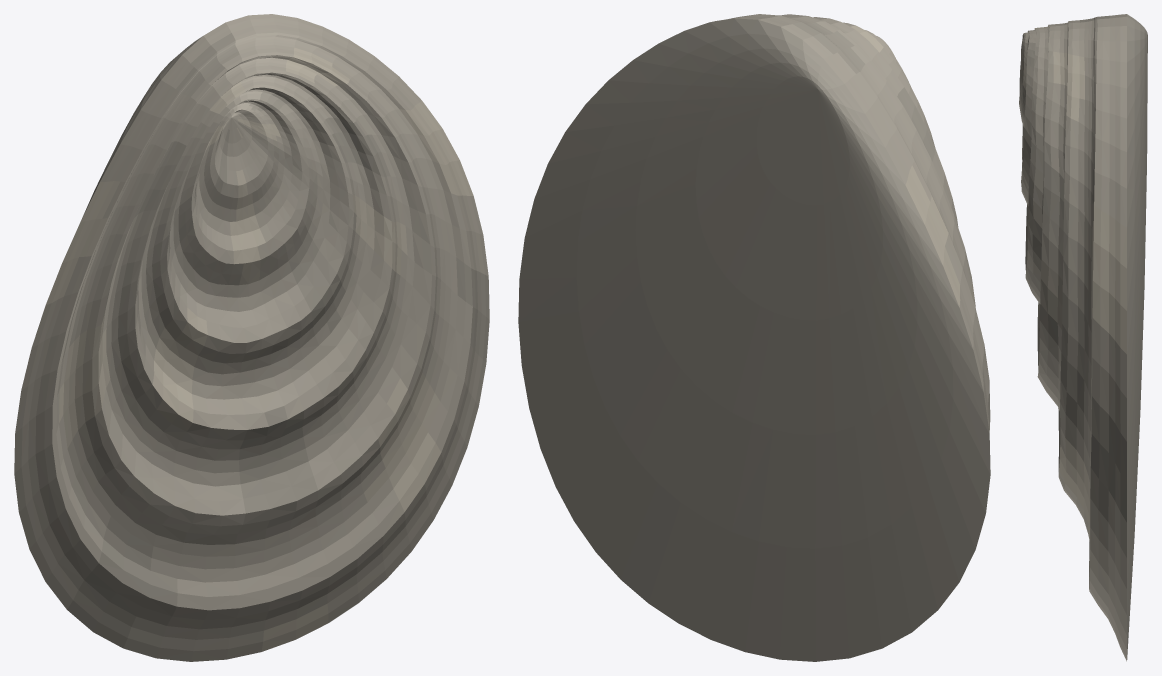
File: inoceramus.glb
3 views of the same model, side by side, from view 1: azimuth 30°, elevation 25°; view 2: azimuth 150°, elevation 25°; view 3: azimuth 270°, elevation 25° (orthographic). The views are drawn at different scales.
Visible parts, largest first — view 1: single-valve-concentric-fold-surface; view 2: single-valve-concentric-fold-surface; view 3: single-valve-concentric-fold-surface.
Part boxes in pixels (x1,y1,x2,y2): single-valve-concentric-fold-surface: [14, 14, 489, 661]; single-valve-concentric-fold-surface: [518, 14, 990, 661]; single-valve-concentric-fold-surface: [1019, 14, 1147, 661].
Bounding box in the file's own units: 0.14 × 0.18 × 0.0345.
